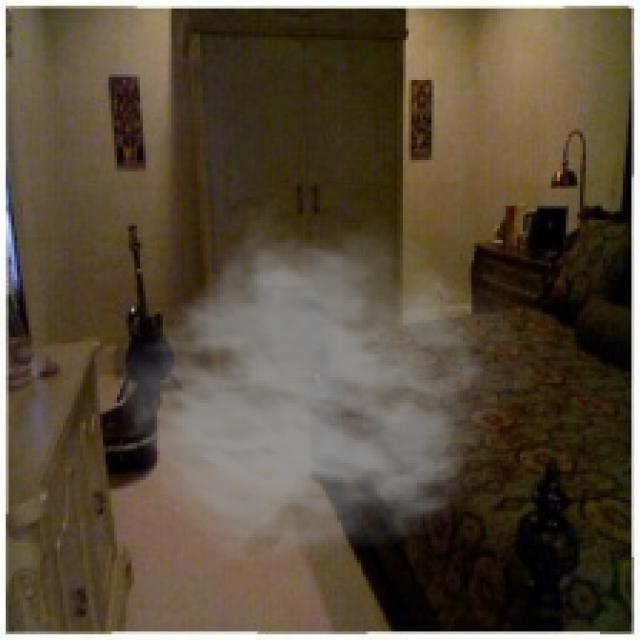Smoke: (117, 208, 537, 566)
